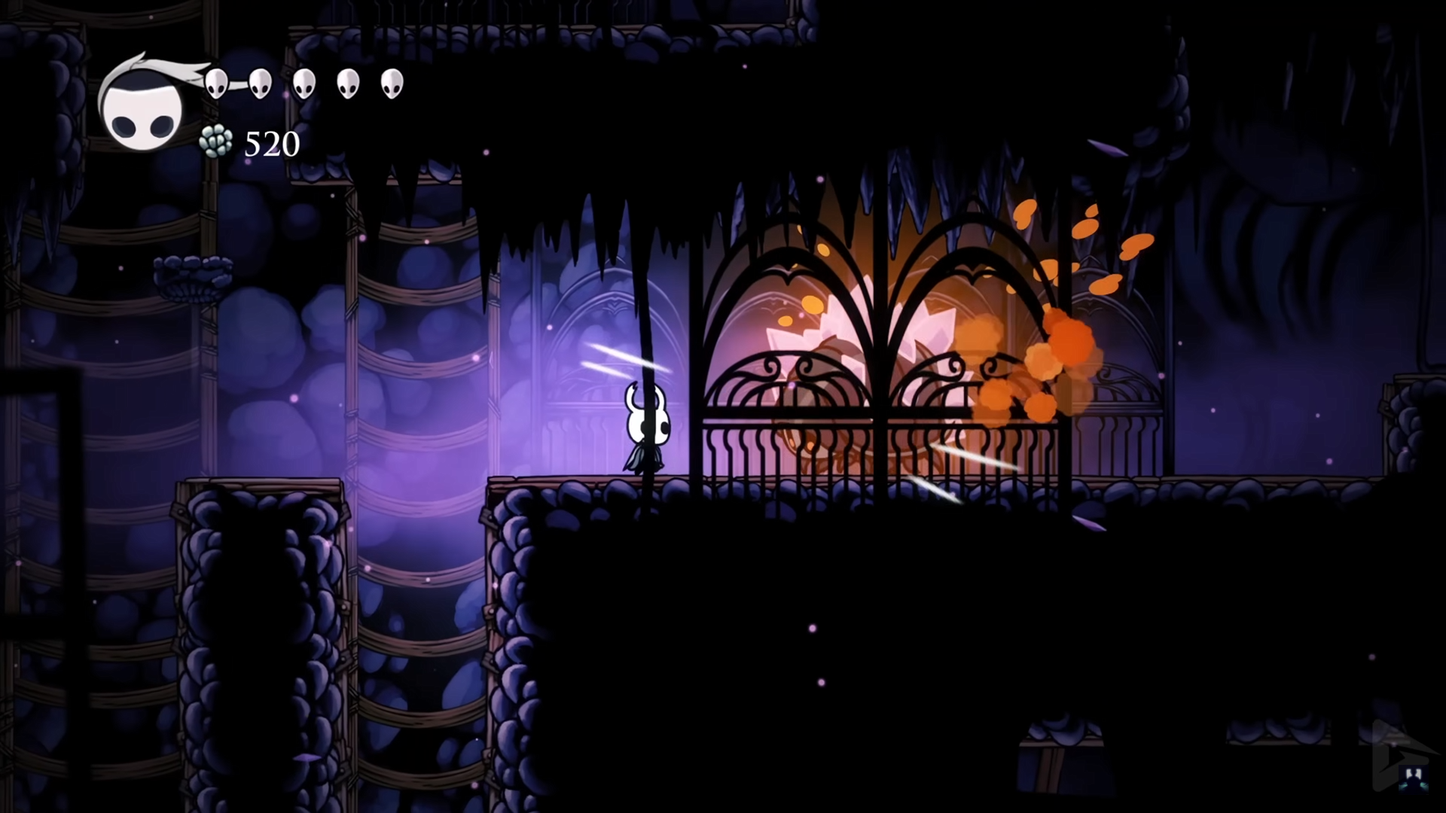HK: (621, 377, 676, 476)
